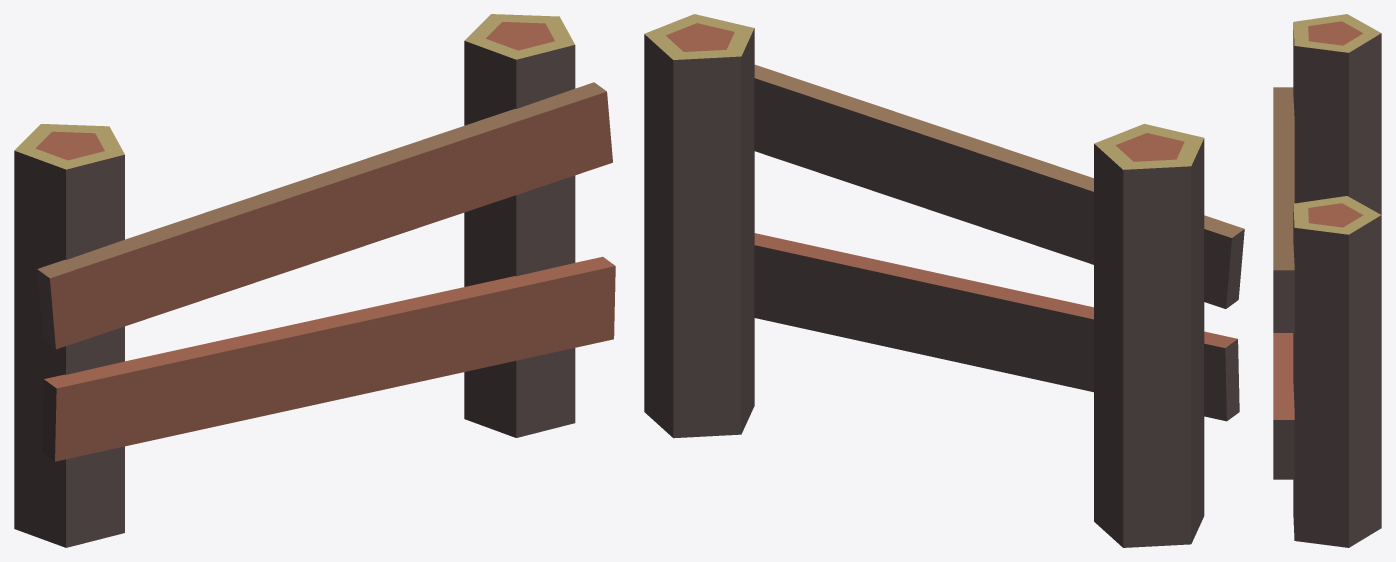
File: TB_D_Bd_Fence_Zag_B.FBX
3 renders of one model, left to right at view 1: azimuth 30°, elevation 25°; view 2: azimuth 150°, elevation 25°; view 3: azimuth 270°, elevation 25°, orthographic. The views are drawn at different scales.
Parts seen in each view (by area): view 1: TB_D_Bd_Fence_Zag_B; view 2: TB_D_Bd_Fence_Zag_B; view 3: TB_D_Bd_Fence_Zag_B.
Boxes of the visible parts, x1=… form: TB_D_Bd_Fence_Zag_B: x1=14, y1=14, x2=615, y2=547; TB_D_Bd_Fence_Zag_B: x1=644, y1=14, x2=1244, y2=547; TB_D_Bd_Fence_Zag_B: x1=1273, y1=14, x2=1381, y2=547.
Bounding box in the file's own units: 2.28 × 1.46 × 0.4557.
